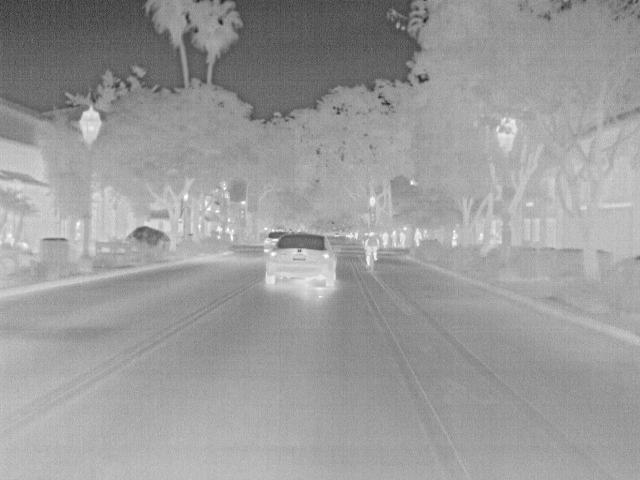car: (261, 234, 336, 290), (262, 230, 286, 252)
person: (364, 231, 382, 265), (412, 226, 425, 247), (397, 228, 407, 249), (389, 228, 397, 246)
